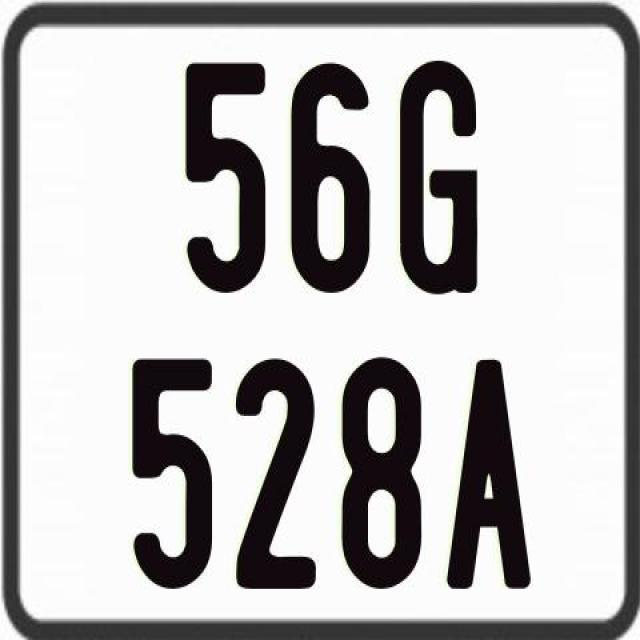2: (232, 358, 319, 590)
5: (129, 357, 215, 592), (186, 58, 266, 290)
6: (286, 64, 366, 301)
8: (341, 357, 428, 590)
A: (447, 358, 537, 592)
G: (398, 58, 482, 298)
